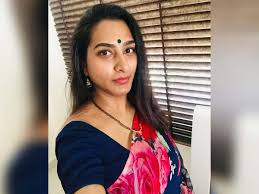No-Glasses: (90, 39, 142, 61)
